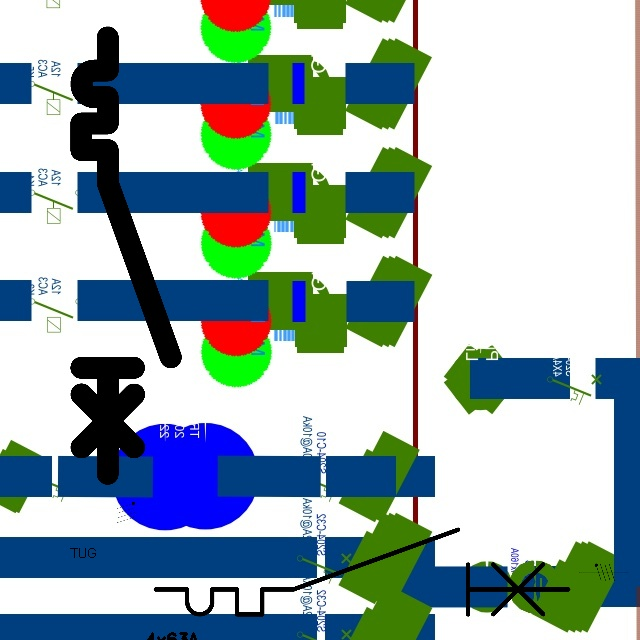interruptor_termomagnetico: (70, 26, 182, 485), (145, 519, 579, 625)
